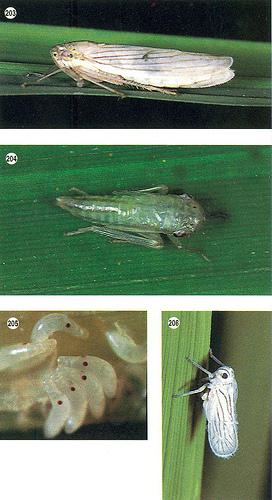Cicadellidae: (51, 184, 235, 261), (20, 37, 237, 100), (171, 347, 243, 459)
